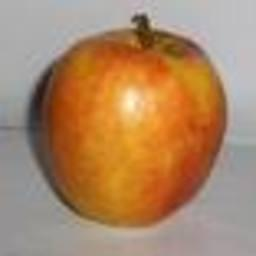apple: (39, 13, 226, 228)
